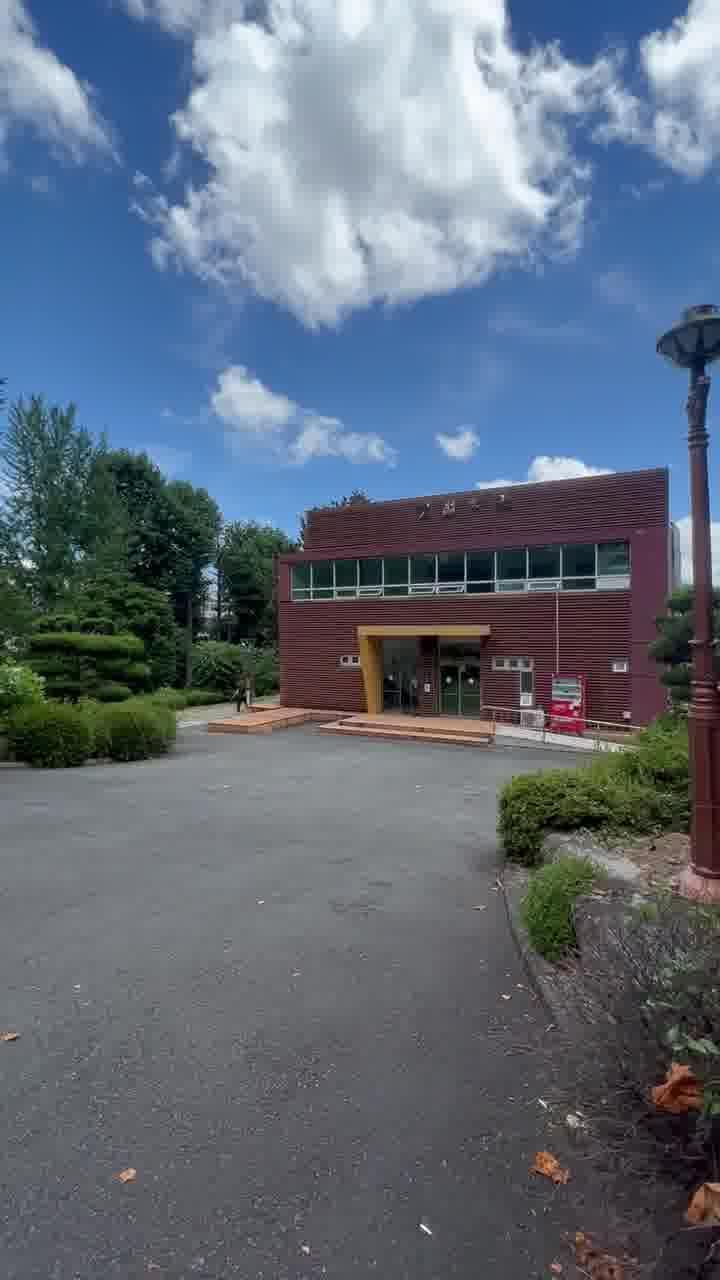building: (282, 444, 676, 738)
